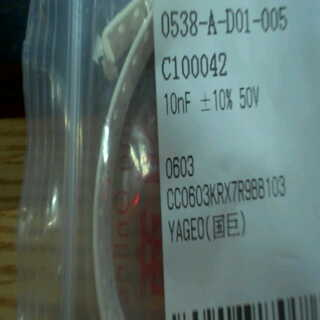10nF: (161, 87, 198, 118)
